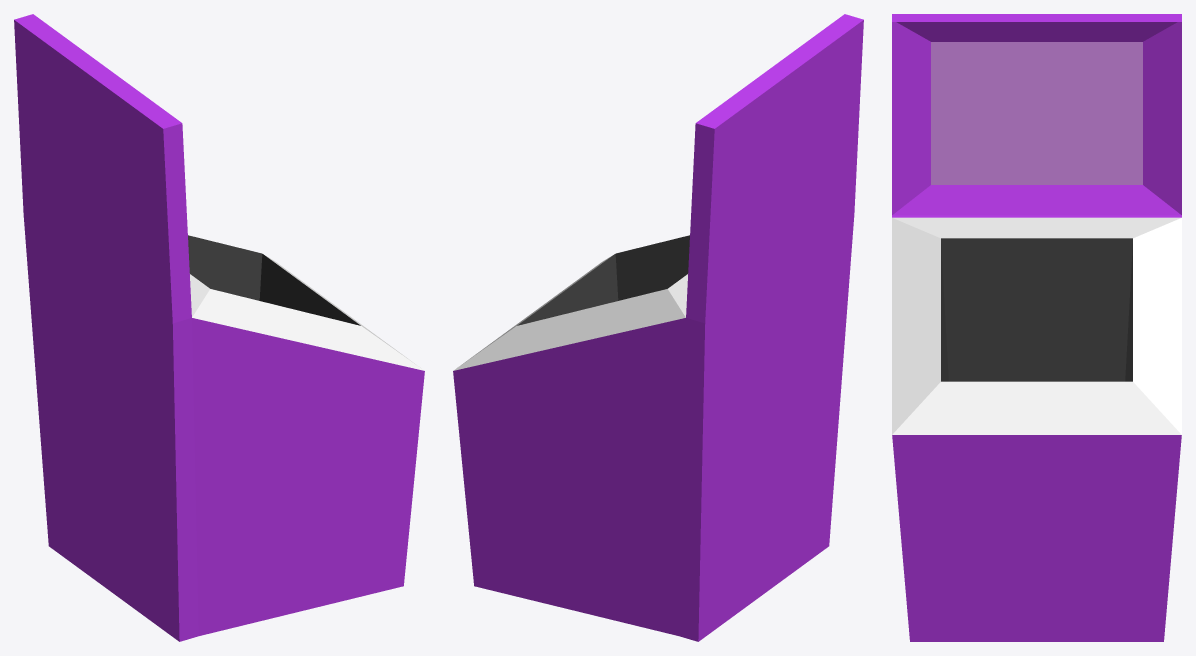
The model's file is Purpule_tube.fbx.
The picture shows the model from 3 angles, left to right: view 1: azimuth 30°, elevation 25°; view 2: azimuth 150°, elevation 25°; view 3: azimuth 270°, elevation 25°; orthographic projection. The views are drawn at different scales.
Visible parts, largest first — view 1: Cube.002; view 2: Cube.002; view 3: Cube.002.
Part boxes in pixels (x1,y1,x2,y2): Cube.002: (14, 14, 424, 641); Cube.002: (453, 14, 863, 641); Cube.002: (892, 14, 1181, 641).
Bounding box in the file's own units: 231 × 445 × 228.
